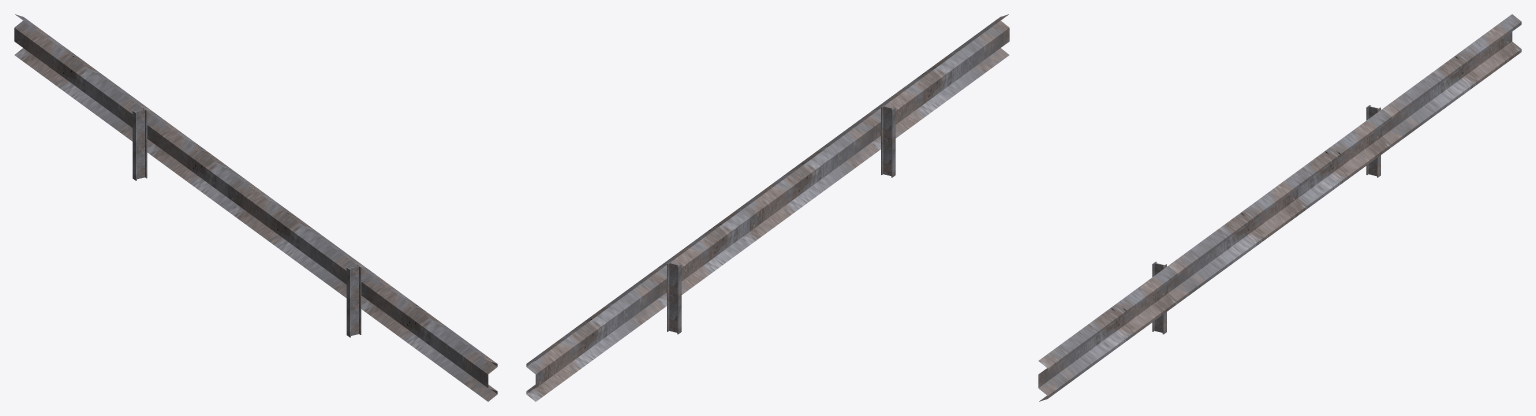
Rendered from Railing.fbx.
3 views of the same model, side by side, from view 1: azimuth 30°, elevation 25°; view 2: azimuth 150°, elevation 25°; view 3: azimuth 330°, elevation 25° (orthographic).
Visible parts, largest first — view 1: Cube.012, Cube.016, Cube.011, Cube.002; view 2: Cube.012, Cube.016, Cube.002, Cube.011; view 3: Cube.012, Cube.016.
Boxes of the visible parts, box(x1,y1,x2,y2) form: Cube.012: box(228, 171, 497, 401); Cube.016: box(14, 14, 236, 211); Cube.011: box(346, 265, 361, 337); Cube.002: box(132, 108, 147, 180); Cube.012: box(741, 14, 1009, 244); Cube.016: box(526, 204, 749, 401); Cube.002: box(667, 261, 681, 334); Cube.011: box(881, 105, 895, 177); Cube.012: box(1038, 171, 1307, 401); Cube.016: box(1298, 14, 1521, 208).
Size of the model in its own units: 31.6 by 94.96 by 1204.
1 material, 1 textured.
